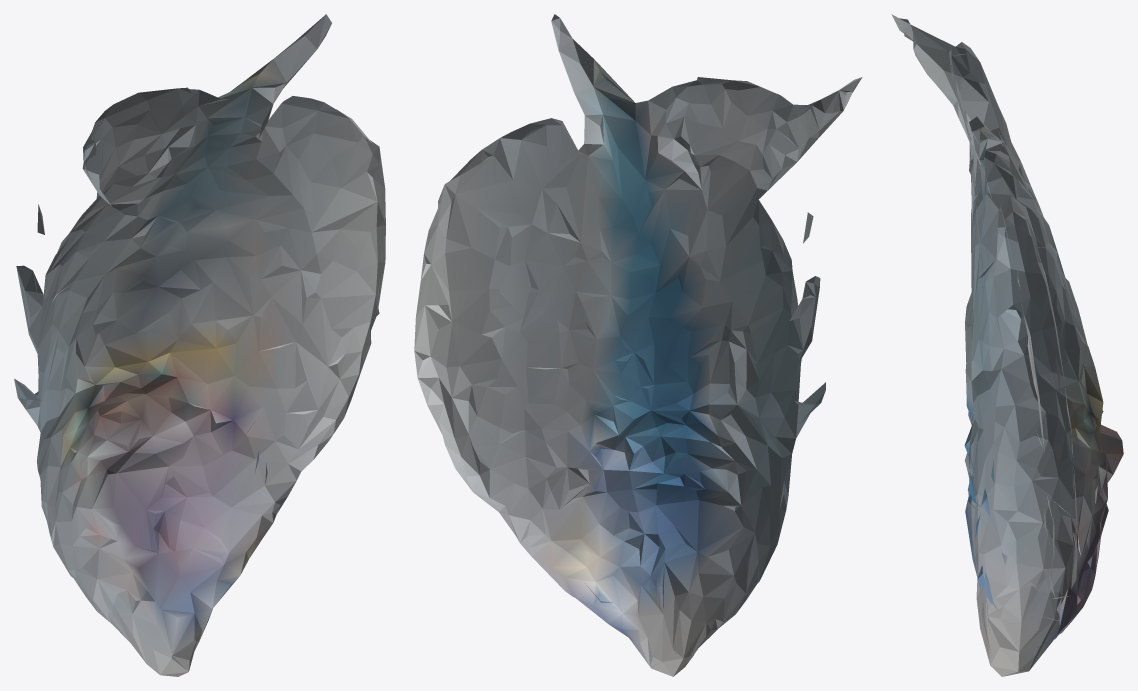
The model's file is fish-tang.glb.
The picture shows the model from 3 angles, left to right: view 1: azimuth 30°, elevation 25°; view 2: azimuth 150°, elevation 25°; view 3: azimuth 270°, elevation 25°; orthographic projection. The views are drawn at different scales.
Visible parts, largest first — view 1: world; view 2: world; view 3: world.
Boxes of the visible parts, x1,y1,x2,y2 form: world: (14, 14, 385, 676); world: (414, 14, 862, 676); world: (891, 14, 1123, 676).
Size of the model in its own units: 0.5945 by 0.9219 by 0.3112.
